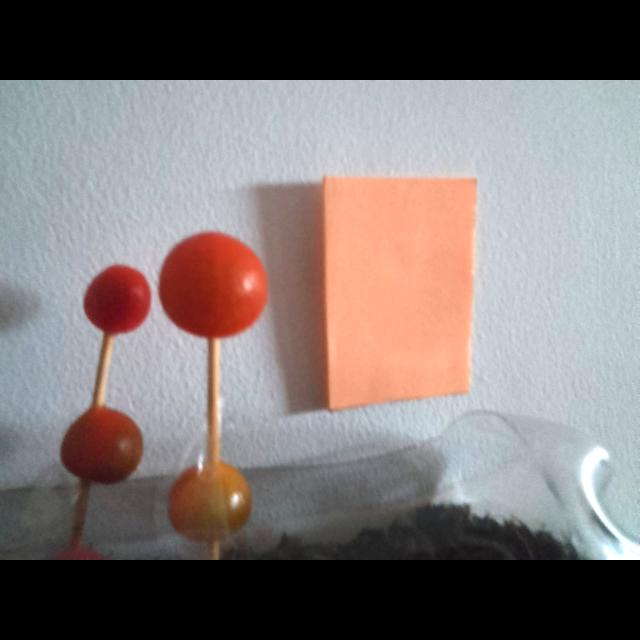card: (323, 176, 476, 410)
fruit_maturation: (169, 462, 251, 541)
fully_grown: (159, 232, 267, 339), (60, 407, 143, 484), (84, 265, 150, 335)
